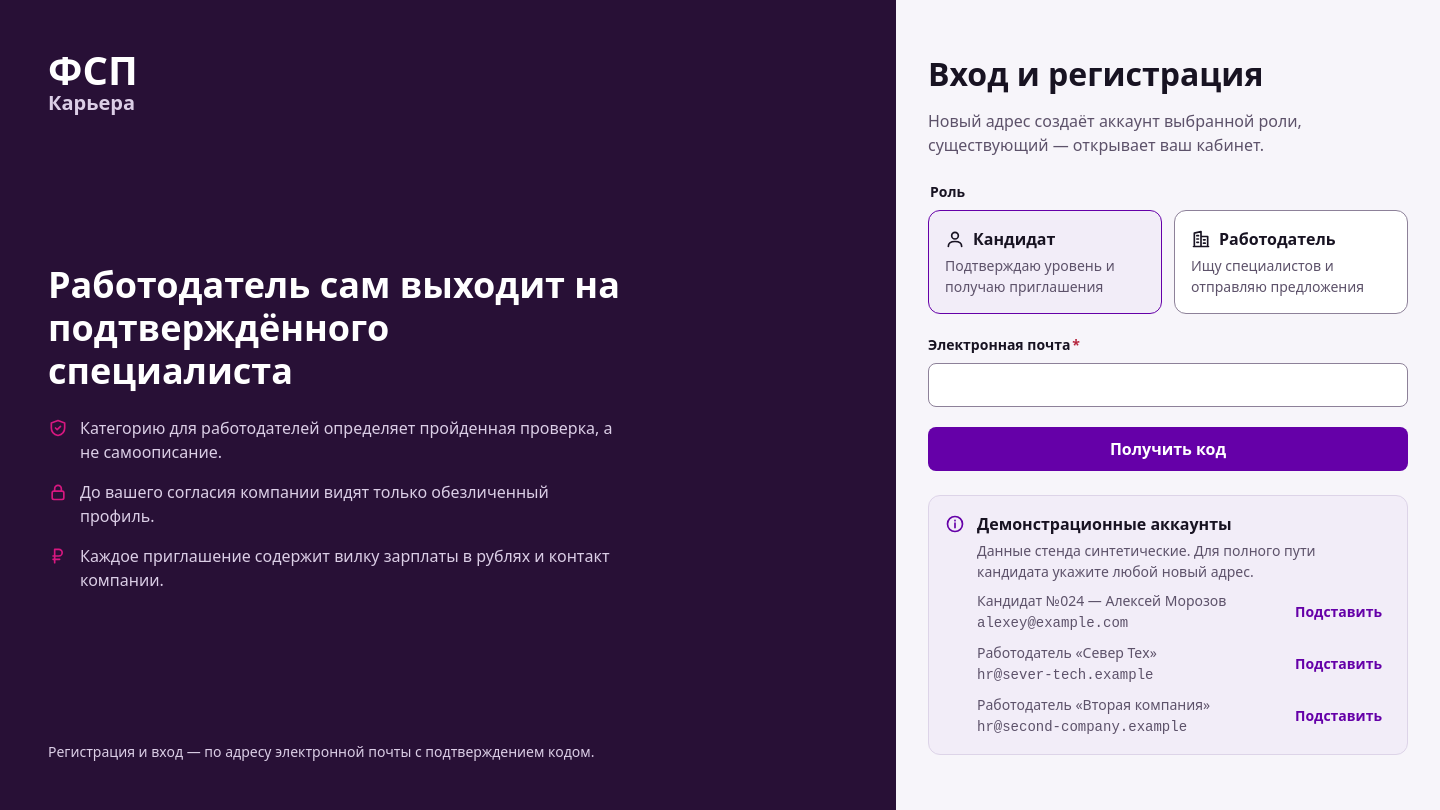
Test: email sign-in › shows real mail guidance and keeps demo accounts available when the server sends email
expect the text "Демонстрационные аккаунты" is shown: met, box [977,513,1232,535]
Type "real@example.com" into the field labelled "Электронная почта*" at (1168, 385), box [928,363,1408,407]
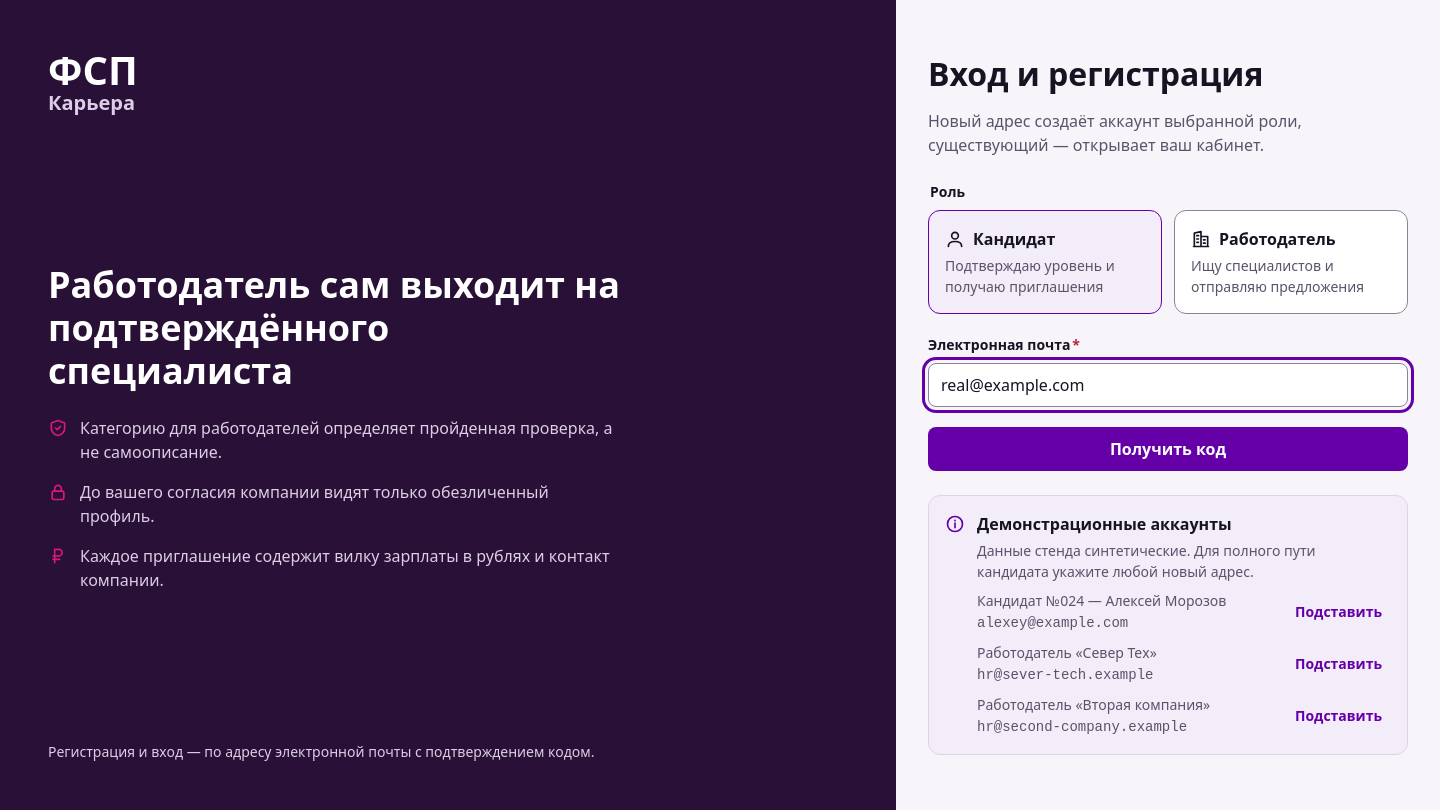
Click the button "Получить код" at (1168, 449), box [928,427,1408,471]
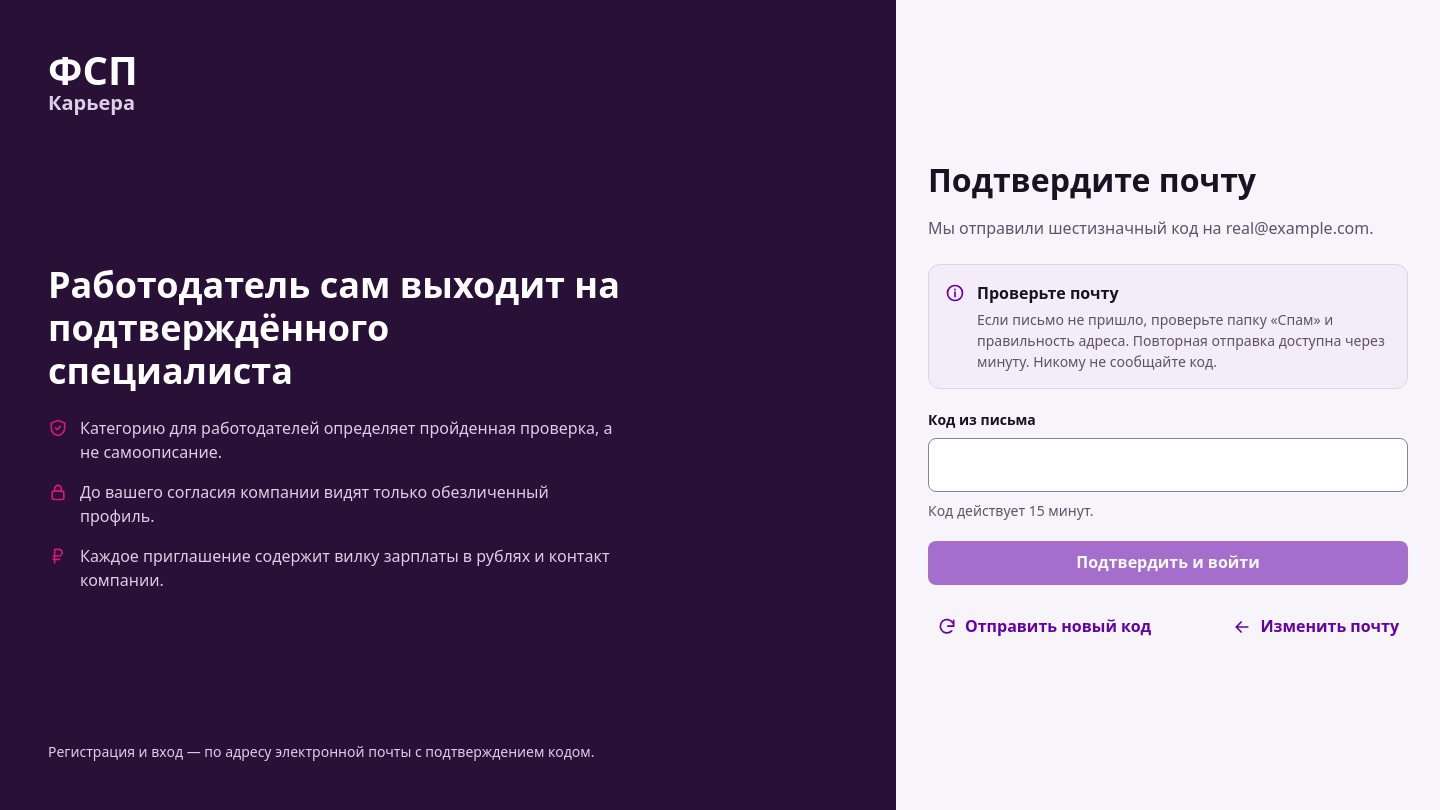
expect the text "Проверьте почту" is shown: met, box [977,282,1119,304]
